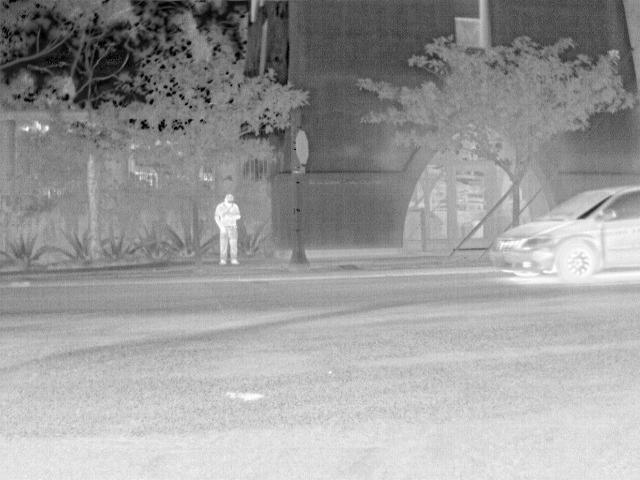car: (489, 185, 639, 283)
person: (214, 192, 240, 266)
